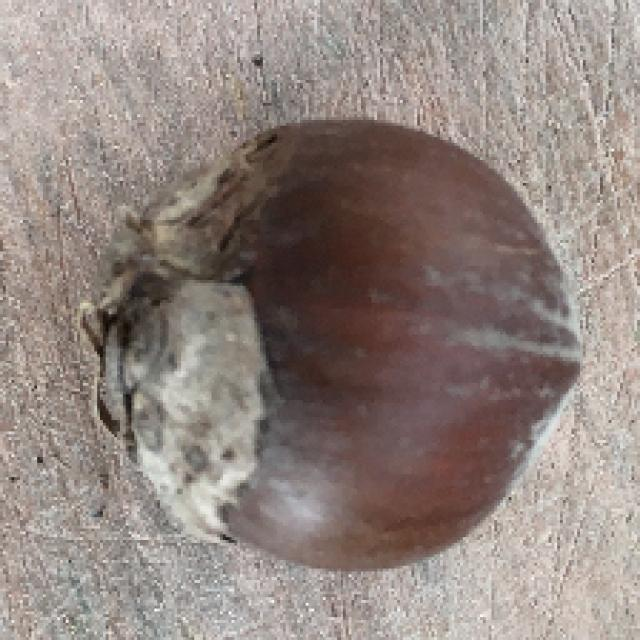DamagedHazelnut: (81, 115, 586, 569)
